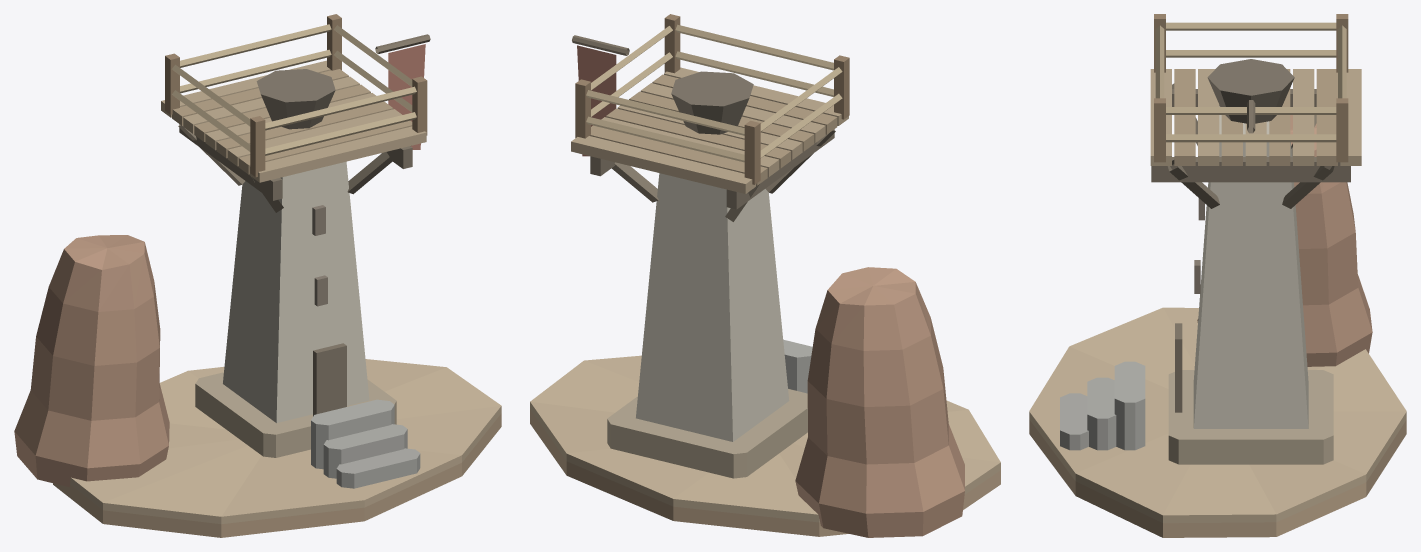
The picture shows the model from 3 angles, left to right: view 1: azimuth 30°, elevation 25°; view 2: azimuth 150°, elevation 25°; view 3: azimuth 270°, elevation 25°; orthographic projection. The views are drawn at different scales.
Parts seen in each view (by area): view 1: S08; view 2: S08; view 3: S08.
Boxes of the visible parts, box(x1,y1,x2,y2) form: S08: box(14, 14, 501, 537); S08: box(530, 14, 1000, 537); S08: box(1029, 14, 1406, 537).
Bounding box in the file's own units: 4.1 × 3.49 × 3.03.
